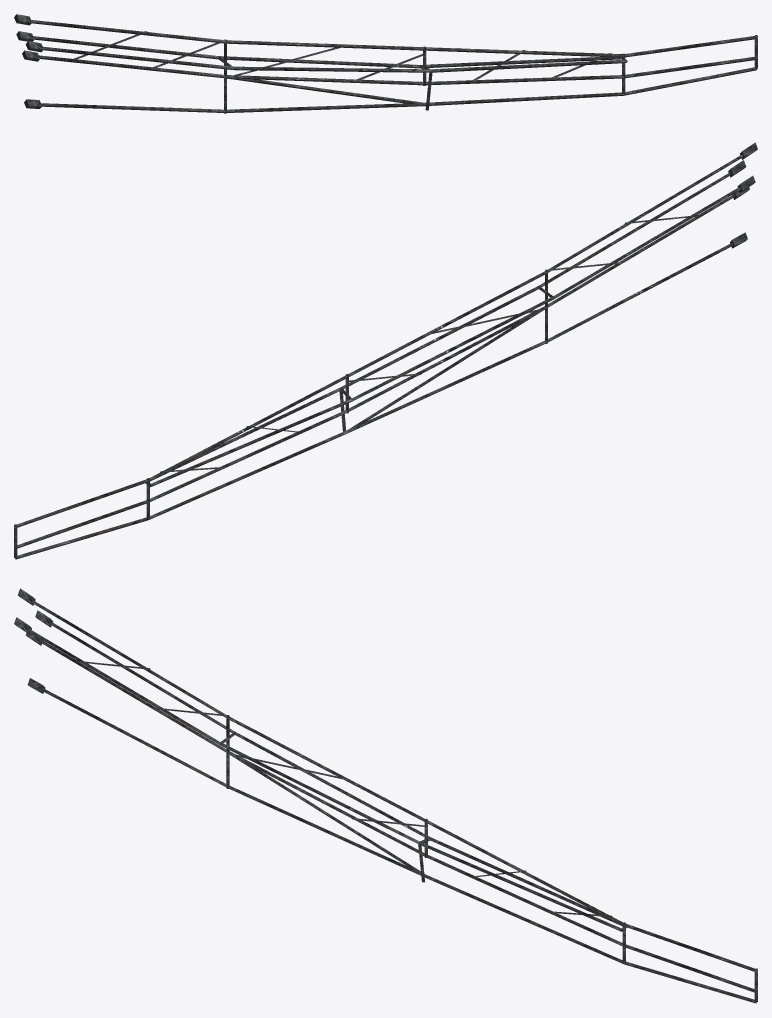
The model's file is city_01.obj.
The picture shows the model from 3 angles, top to bottom: view 1: azimuth 30°, elevation 25°; view 2: azimuth 210°, elevation 25°; view 3: azimuth 330°, elevation 25°; orthographic projection.
Visible parts, largest first — view 1: Cube.106_Cube.110; view 2: Cube.106_Cube.110; view 3: Cube.106_Cube.110.
Part boxes in pixels (x1,y1,x2,y2): Cube.106_Cube.110: [14, 14, 757, 113]; Cube.106_Cube.110: [14, 142, 757, 559]; Cube.106_Cube.110: [14, 588, 757, 1003].
Size of the model in its own units: 112 by 34.1 by 5.3.
1 material, 1 textured.
